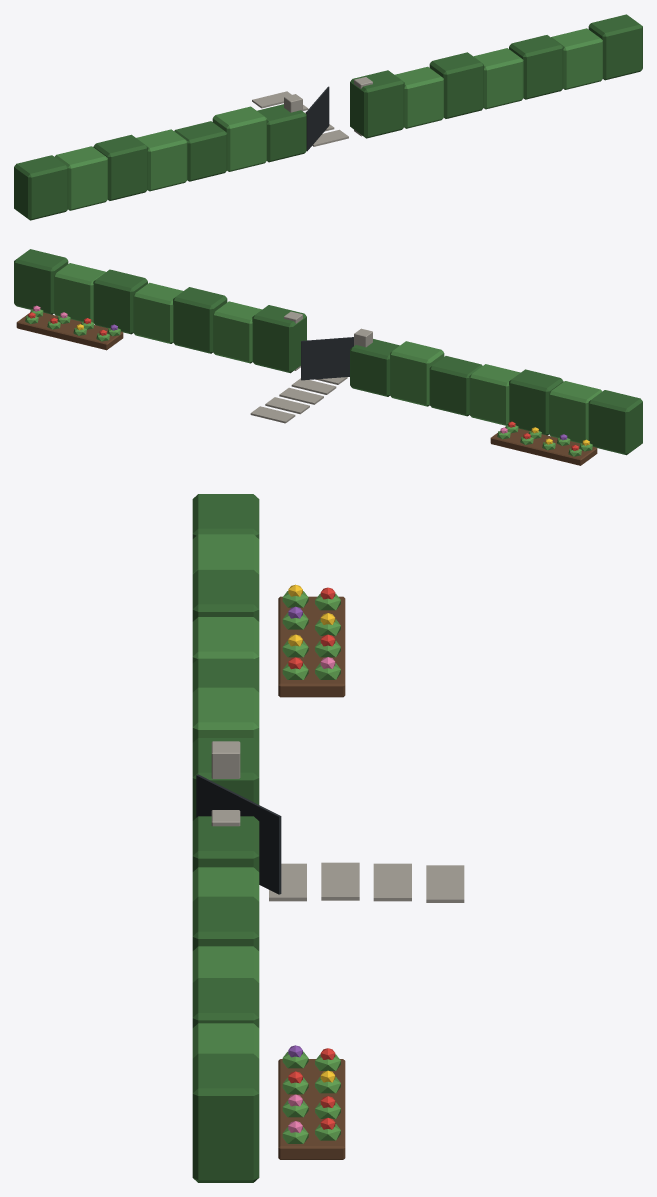
File: Yard_Hedge_13.fbx
3 views of the same model, one above another, from view 1: azimuth 30°, elevation 25°; view 2: azimuth 150°, elevation 25°; view 3: azimuth 270°, elevation 25° (orthographic). The views are drawn at different scales.
Visible parts, largest first — view 1: Yard_Hedge_13; view 2: Yard_Hedge_13; view 3: Yard_Hedge_13.
Part boxes in pixels (bbox=[...]): Yard_Hedge_13: bbox=[14, 14, 642, 220]; Yard_Hedge_13: bbox=[14, 249, 642, 465]; Yard_Hedge_13: bbox=[192, 494, 464, 1182].
Size of the model in its own units: 14.89 by 1.2 by 2.85.
